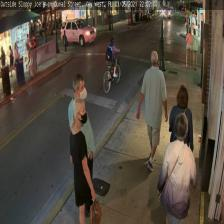person: (156, 112, 196, 223), (68, 74, 94, 216), (136, 51, 167, 170), (69, 97, 95, 224), (168, 85, 193, 188)
